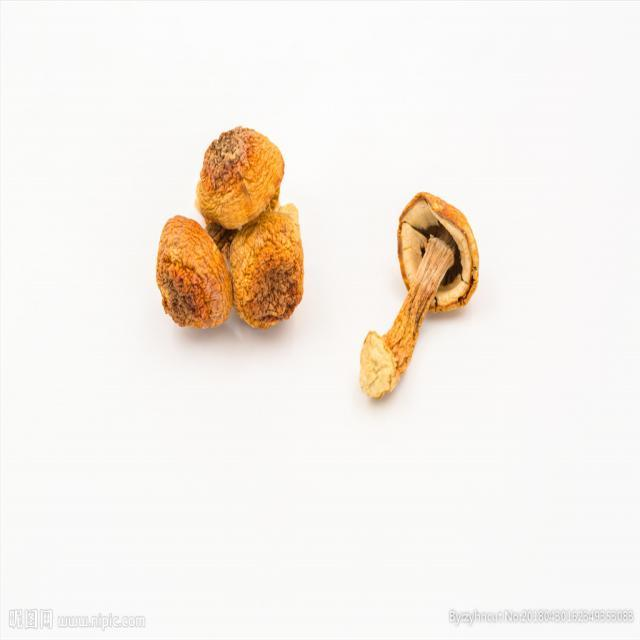Agaricus blazei Murill: (154, 125, 302, 329), (361, 194, 479, 405)
